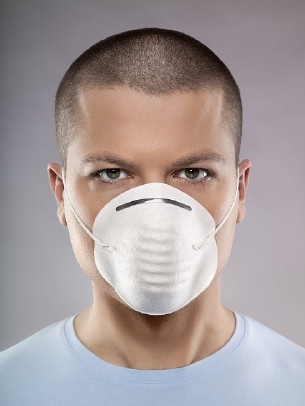Mask: (60, 124, 257, 320)
